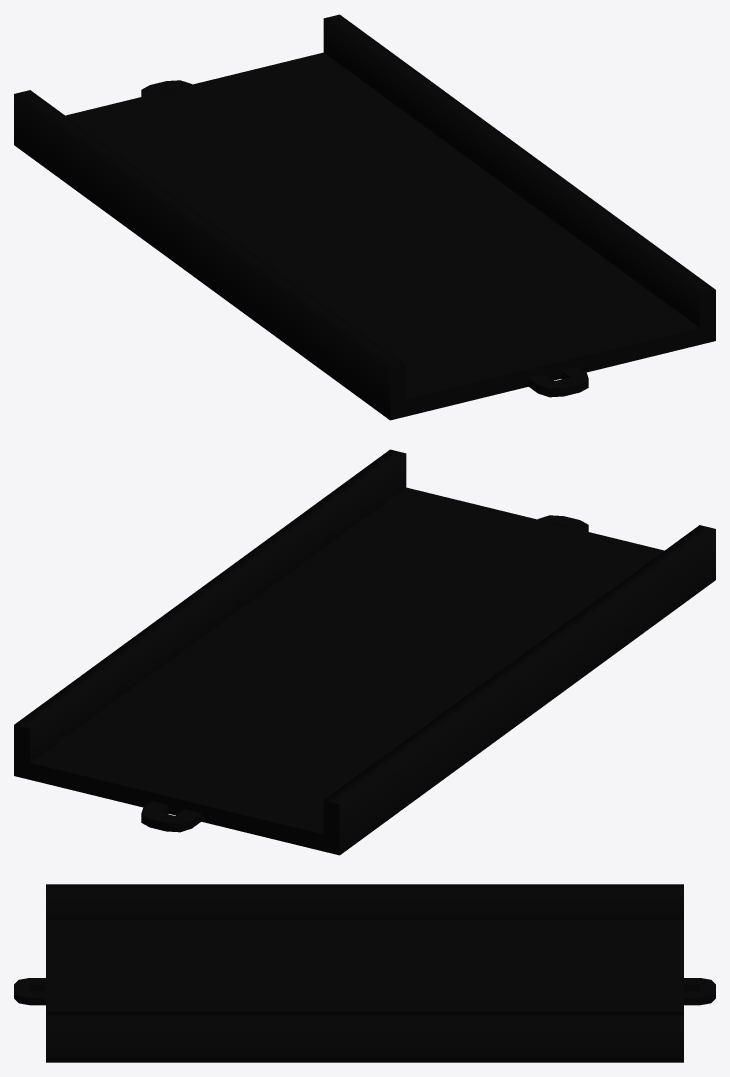
Rendered from Track_Straight.glb.
3 renders of one model, top to bottom at view 1: azimuth 30°, elevation 25°; view 2: azimuth 150°, elevation 25°; view 3: azimuth 270°, elevation 25°, orthographic. The views are drawn at different scales.
Visible parts, largest first — view 1: track-wide-straight; view 2: track-wide-straight; view 3: track-wide-straight.
Boxes of the visible parts, x1,y1,x2,y2 form: track-wide-straight: (14,14,715,420); track-wide-straight: (14,449,715,855); track-wide-straight: (14,884,715,1062).
Bounding box in the file's own units: 2 × 0.3 × 4.4.
1 material, 1 textured.
